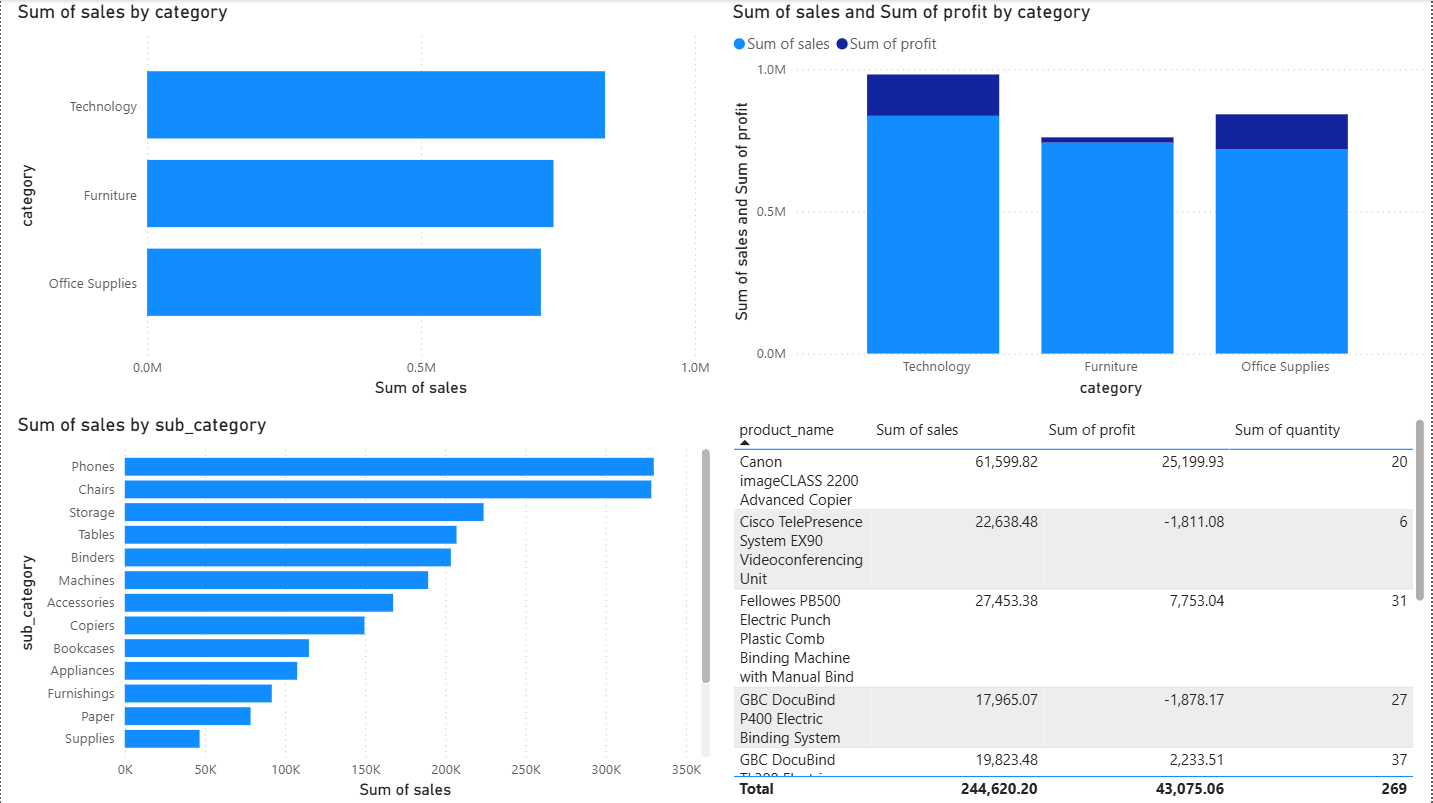

Layout of this report page (visuals, bound fields, positions):
{"tool":"powerbi","page":{"name":"Product Analysis","canvas":[1280,720],"ordinal":1},"visuals":[{"type":"clusteredBarChart","fields":{"Category":["public orders.category"],"Y":["Sum(public orders.sales)"]},"box":[9.9,0,630.4,360],"z":0},{"type":"clusteredBarChart","fields":{"Category":["public orders.sub_category"],"Y":["Sum(public orders.sales)"]},"box":[9.9,369.9,630.4,350.1],"z":1},{"type":"columnChart","fields":{"Category":["public orders.category"],"Y":["Sum(public orders.sales)","Sum(public orders.profit)"]},"box":[650,0,630,360],"z":2},{"type":"tableEx","fields":{"Values":["public orders.product_name","Sum(public orders.sales)","Sum(public orders.profit)","Sum(public orders.quantity)"]},"box":[650,370,630,350],"z":3}]}

Visuals, with their boxes in screenshot pixels (x1, y1, x2, y2), scaled from the page's 1280x720 canvas onto the 1433x803 screenshot:
clusteredBarChart - public orders.category x Sum(public orders.sales): region(11, 0, 717, 402)
clusteredBarChart - public orders.sub_category x Sum(public orders.sales): region(11, 413, 717, 802)
columnChart - public orders.category x Sum(public orders.sales): region(728, 0, 1432, 402)
tableEx - public orders.product_name x Sum(public orders.sales): region(728, 413, 1432, 802)
